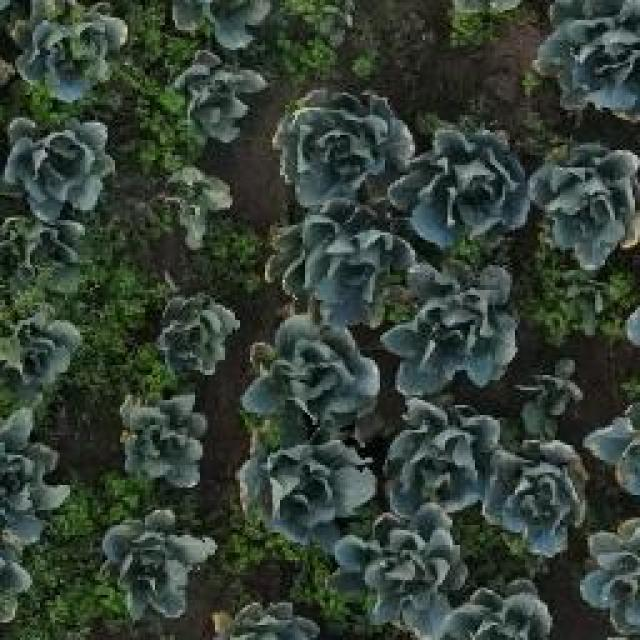cabbage: (272, 88, 415, 214), (266, 215, 414, 325), (388, 268, 516, 394), (397, 127, 530, 246), (240, 426, 376, 537), (239, 319, 380, 421), (341, 512, 462, 630), (386, 401, 502, 522), (530, 146, 640, 273), (85, 502, 197, 620), (10, 0, 140, 100), (484, 435, 590, 554), (532, 0, 640, 115), (3, 113, 114, 224), (163, 46, 269, 142), (114, 392, 208, 486), (5, 303, 86, 397), (155, 287, 242, 372), (154, 164, 236, 252), (447, 580, 549, 640), (514, 356, 584, 427)
